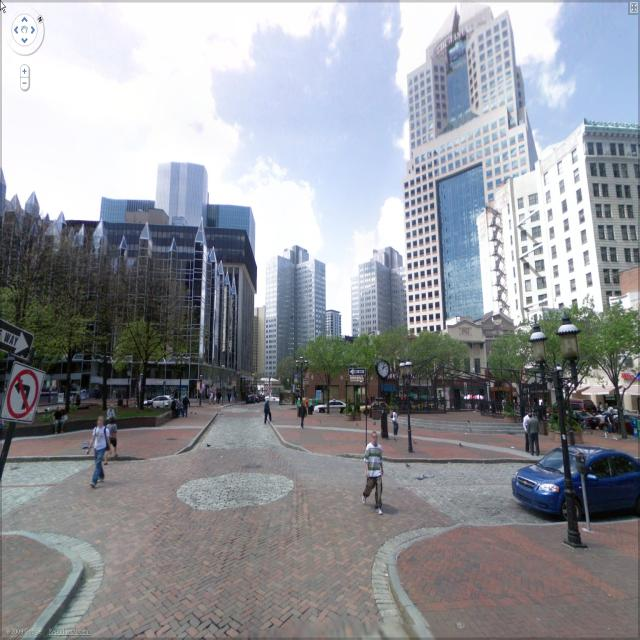b_1: (400, 34, 522, 314), (492, 130, 640, 323), (89, 192, 275, 226), (195, 248, 233, 409), (276, 249, 328, 353), (355, 244, 409, 322), (164, 156, 206, 223), (326, 305, 346, 336)
b_2: (0, 224, 254, 399), (505, 136, 640, 437), (394, 313, 541, 418), (430, 322, 496, 425)
